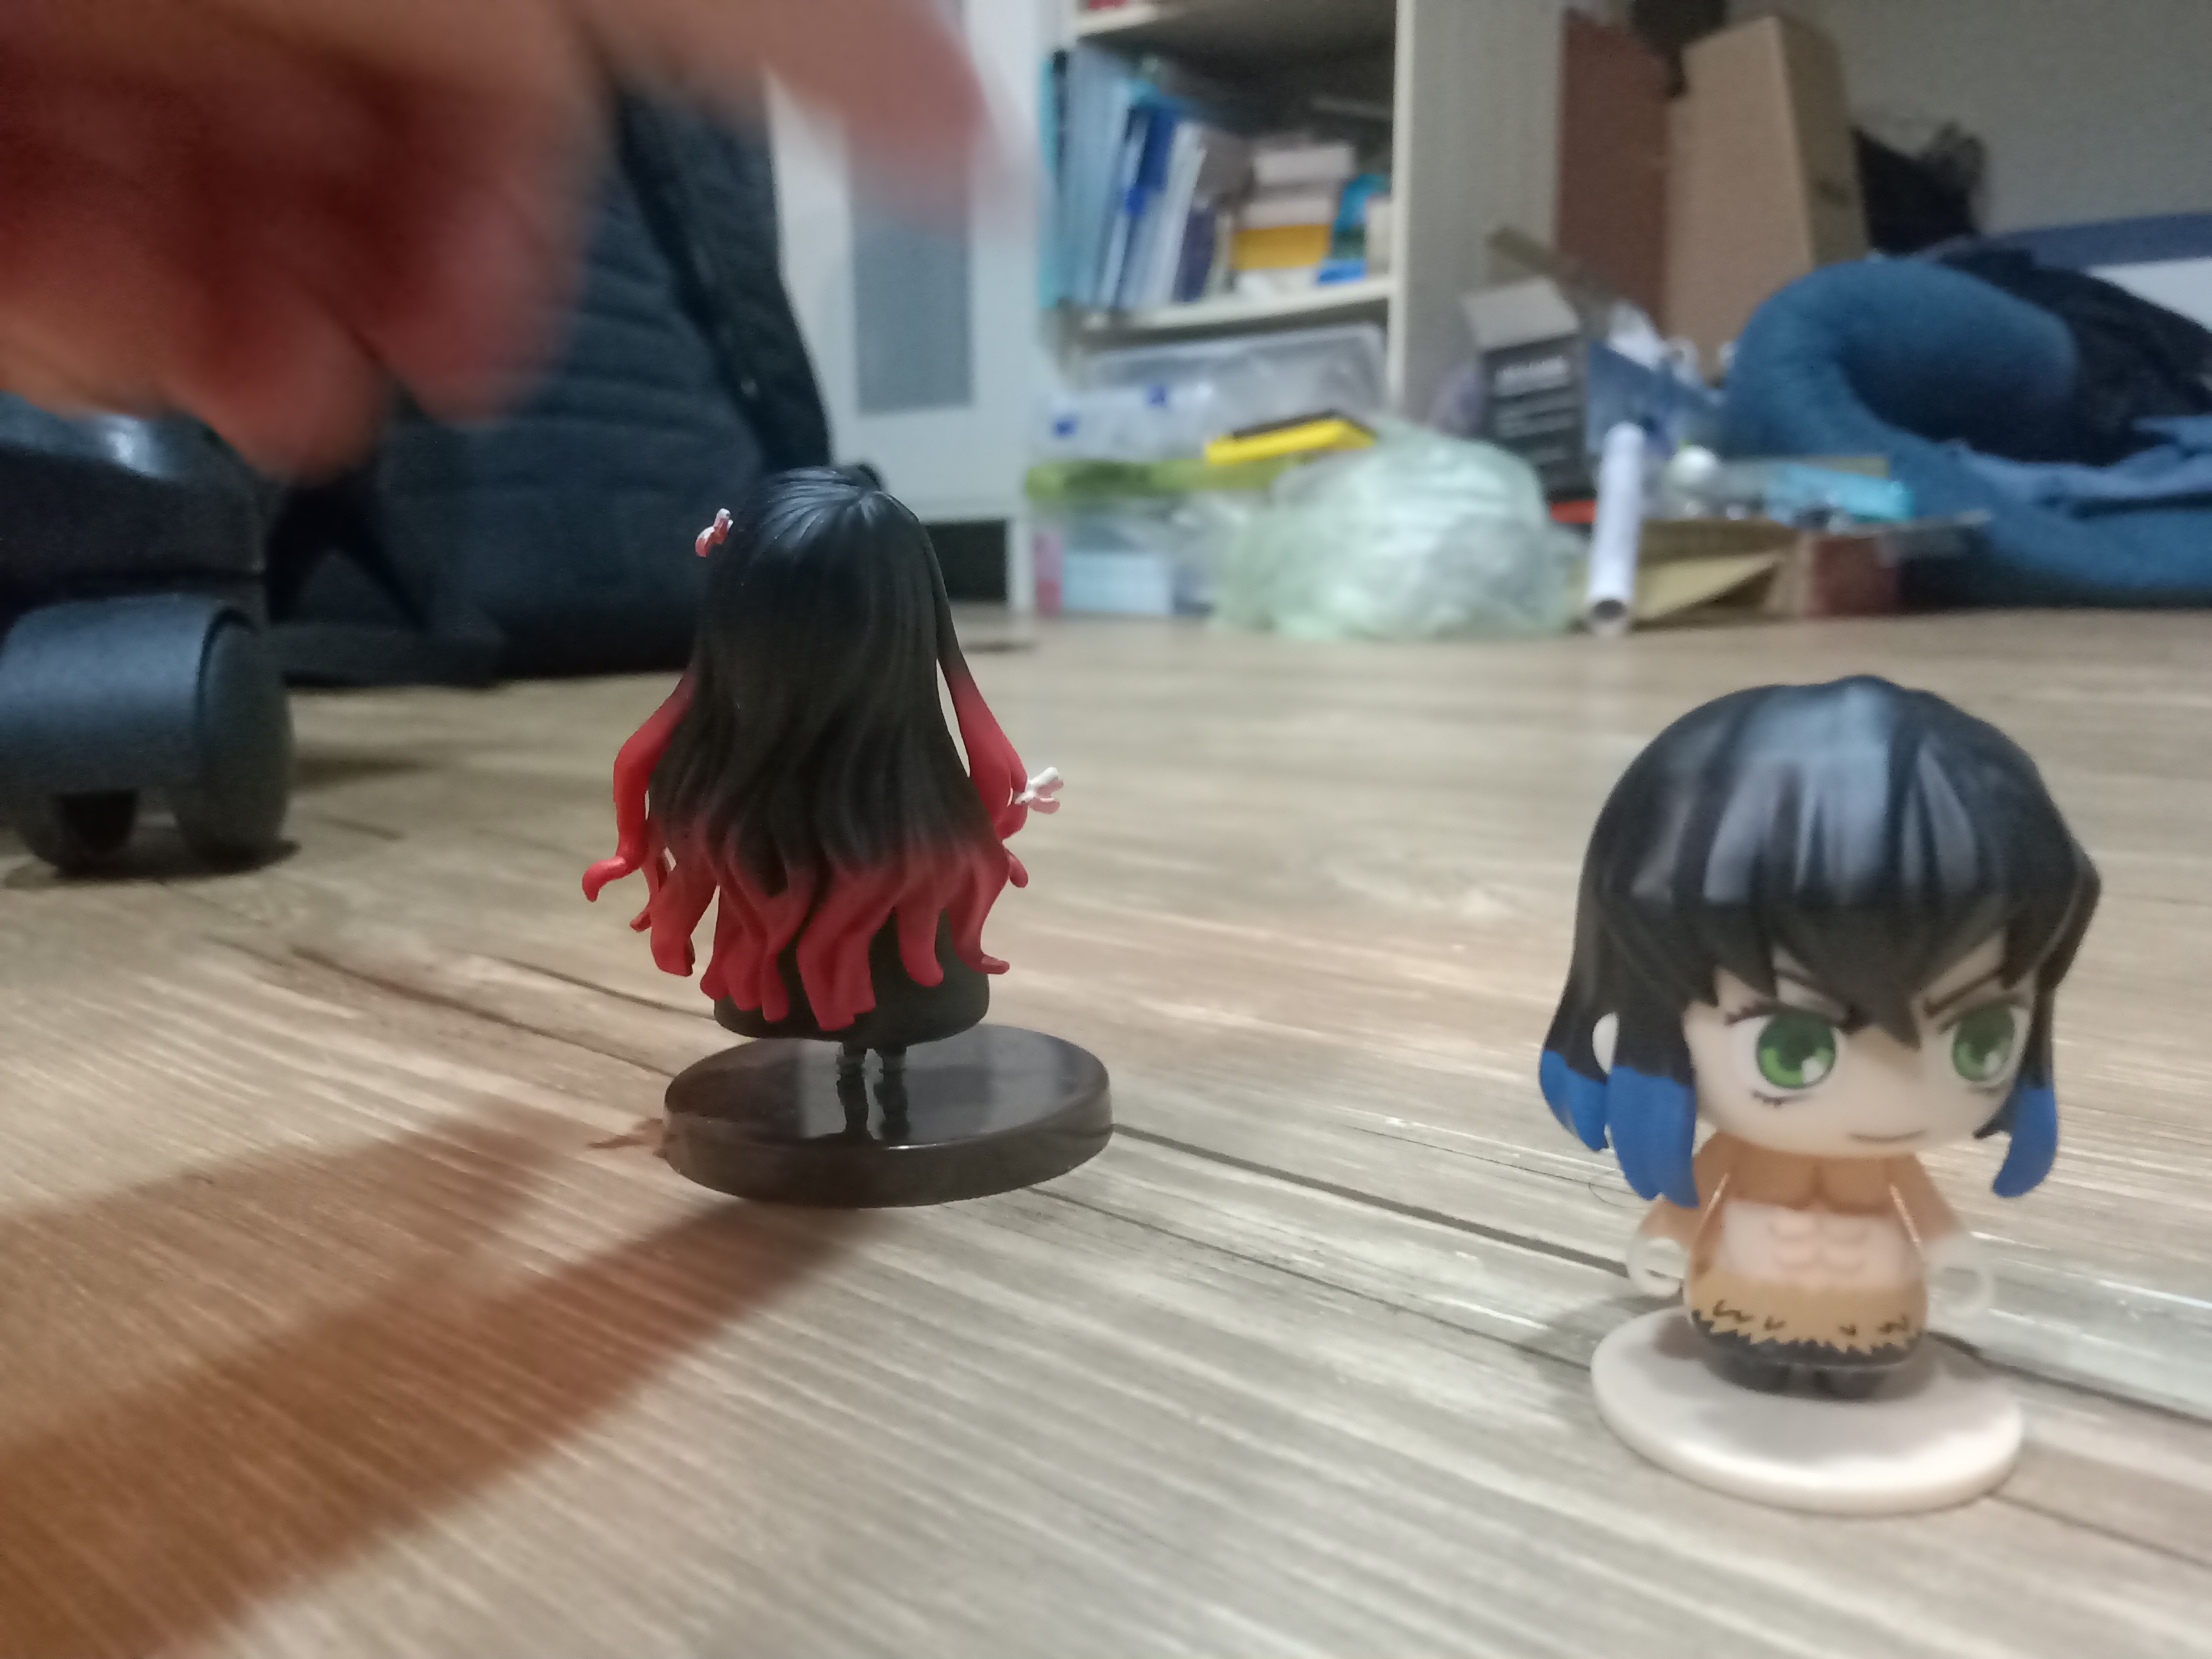Inosuke: (1503, 650, 2114, 1540)
Nezuko: (573, 450, 1157, 1227)
